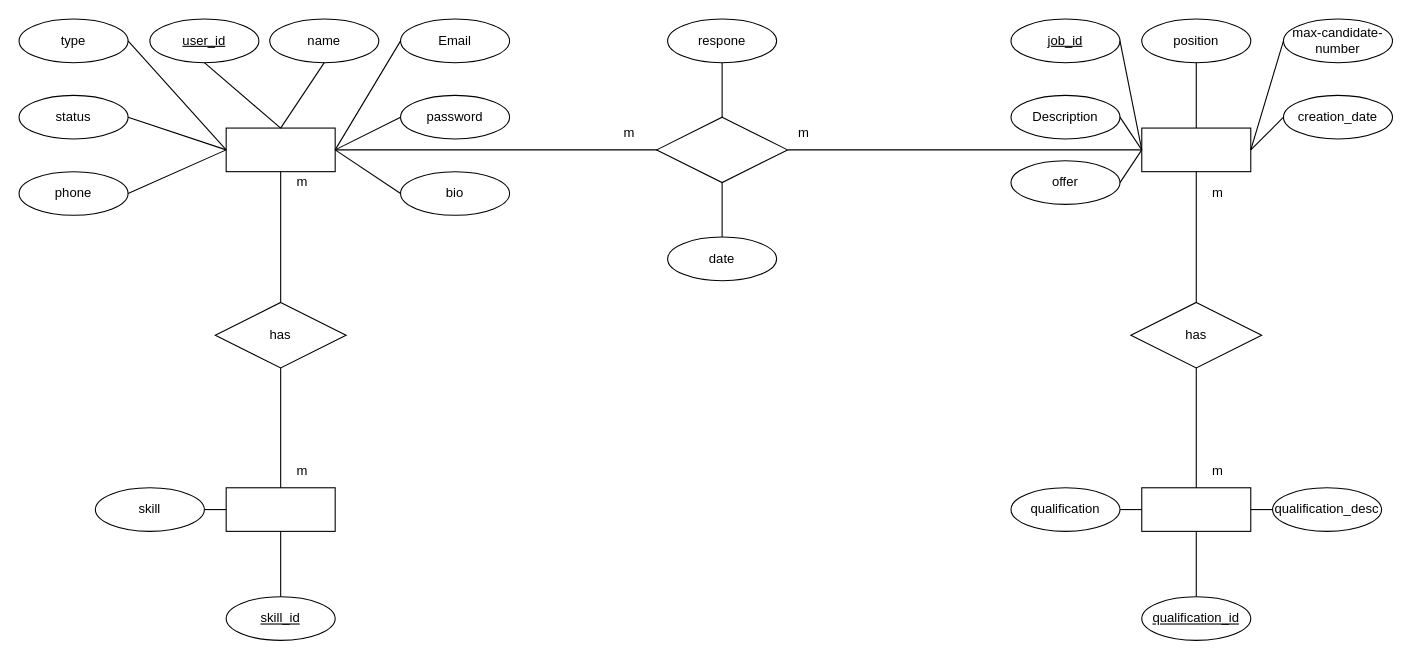
The diagram is 1412 pixels wide and 659 high, and some of its shapes have lost their labels. Each missing label, with the centre of its shape:
"Job" belongs at point 1196,149.
"qualifications" belongs at point 1196,509.
"request" belongs at point 722,149.
"skills" belongs at point 280,509.
"User" belongs at point 280,149.
